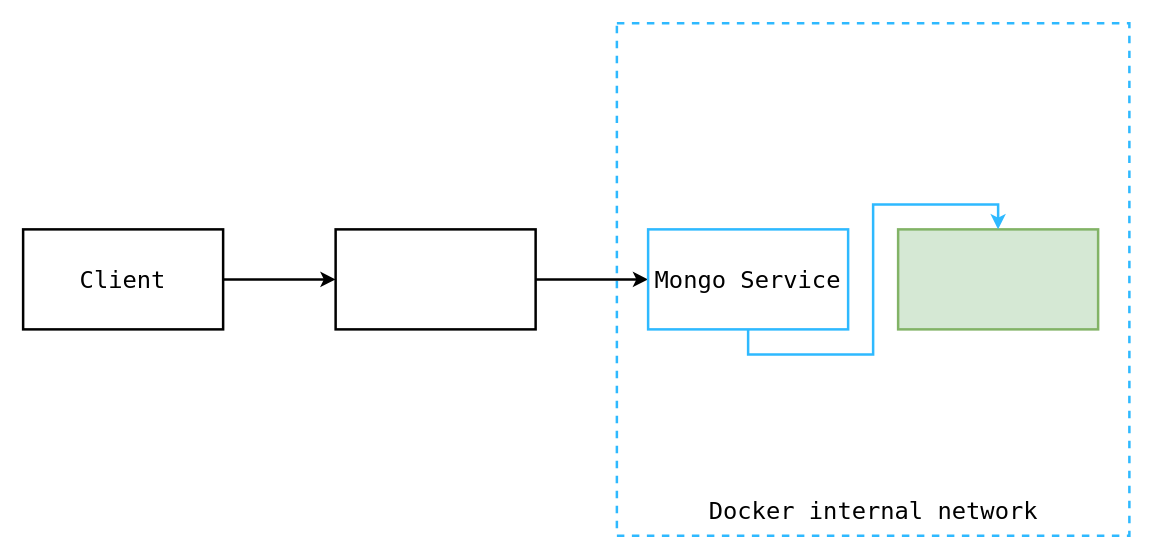
This 1151x558 diagram has some shape labels left out. The centre of each missing label's shape, as x and y in pixels:
Broker Gateway: [435,279]
Mongo DB: [997,279]
